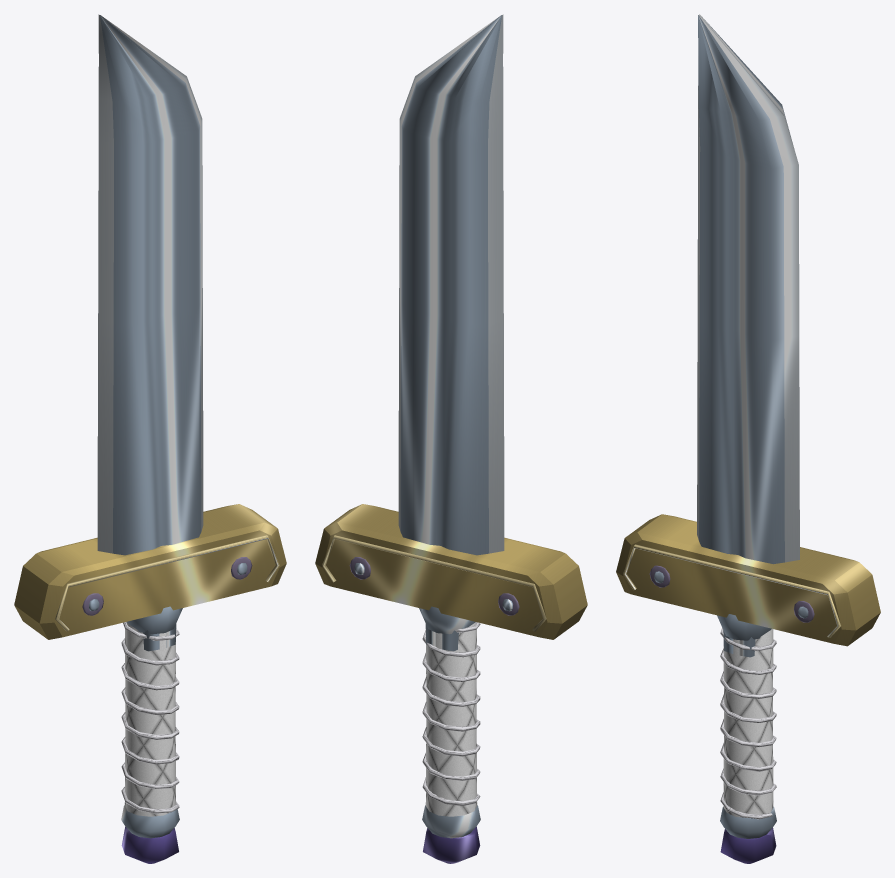
File: mm_kokiri_sword.glb
The picture shows the model from 3 angles, left to right: view 1: azimuth 30°, elevation 25°; view 2: azimuth 150°, elevation 25°; view 3: azimuth 330°, elevation 25°; orthographic projection. The views are drawn at different scales.
Visible parts, largest first — view 1: MM Kokiri forged blade fuller face (×6), Rounded brass rectangular guard, MM Kokiri forged blade cutting bevel (×4), Shaped oval leather grip, Raised diagonal leather wrap, Violet Kokiri pommel, Machined guard rim, Kokiri pommel ferrule, Upper Kokiri guard ferrule; view 2: MM Kokiri forged blade fuller face (×6), Rounded brass rectangular guard, MM Kokiri forged blade cutting bevel (×4), Shaped oval leather grip, Raised diagonal leather wrap, Violet Kokiri pommel, Machined guard rim, Kokiri pommel ferrule, Upper Kokiri guard ferrule; view 3: MM Kokiri forged blade fuller face (×6), Rounded brass rectangular guard, MM Kokiri forged blade cutting bevel (×4), Shaped oval leather grip, Raised diagonal leather wrap, Violet Kokiri pommel, Machined guard rim, Kokiri pommel ferrule, Upper Kokiri guard ferrule.
Part boxes in pixels (x1,y1,x2,y2): MM Kokiri forged blade fuller face (×6): (100,15,198,651); Rounded brass rectangular guard: (14,504,286,639); MM Kokiri forged blade cutting bevel (×4): (97,15,203,650); Shaped oval leather grip: (124,622,176,816); Raised diagonal leather wrap: (121,622,179,813); Violet Kokiri pommel: (121,826,178,863); Machined guard rim: (55,535,279,631); Kokiri pommel ferrule: (121,805,179,838); Upper Kokiri guard ferrule: (127,606,182,634); MM Kokiri forged blade fuller face (×6): (403,15,501,651); Rounded brass rectangular guard: (315,504,587,639); MM Kokiri forged blade cutting bevel (×4): (398,15,504,650); Shaped oval leather grip: (425,622,477,816); Raised diagonal leather wrap: (422,622,480,805); Violet Kokiri pommel: (423,826,480,863); Machined guard rim: (322,535,546,631); Kokiri pommel ferrule: (422,805,480,838); Upper Kokiri guard ferrule: (419,606,475,634); MM Kokiri forged blade fuller face (×6): (698,15,773,657); Rounded brass rectangular guard: (616,514,880,646); MM Kokiri forged blade cutting bevel (×4): (697,15,799,656); Shaped oval leather grip: (723,629,773,817); Raised diagonal leather wrap: (720,628,776,819); Violet Kokiri pommel: (720,827,776,863); Machined guard rim: (623,544,840,637); Kokiri pommel ferrule: (720,806,776,838); Upper Kokiri guard ferrule: (717,614,771,640).
Size of the model in its own units: 18.48 by 61.37 by 4.95.
8 materials, 7 textured.
